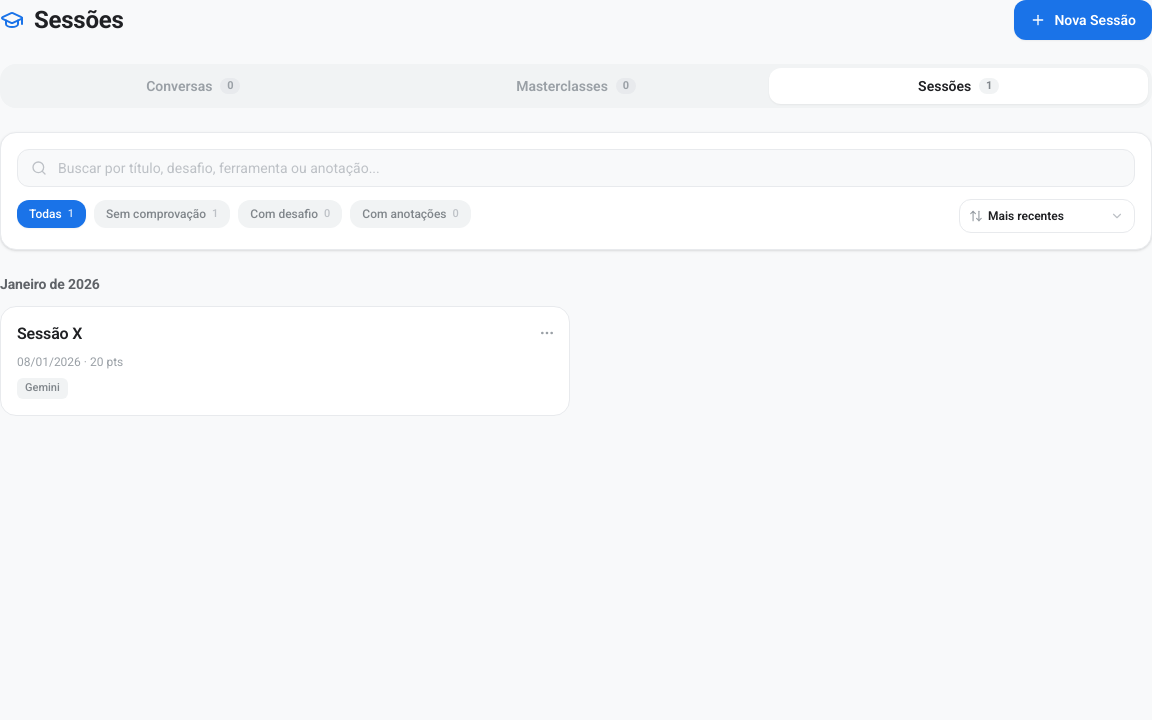
it: SessionsModule › hides a deleted item right away and lets the user undo it
Click the button "Sessão X" at (50, 334), box left=17, top=323, right=82, bottom=345
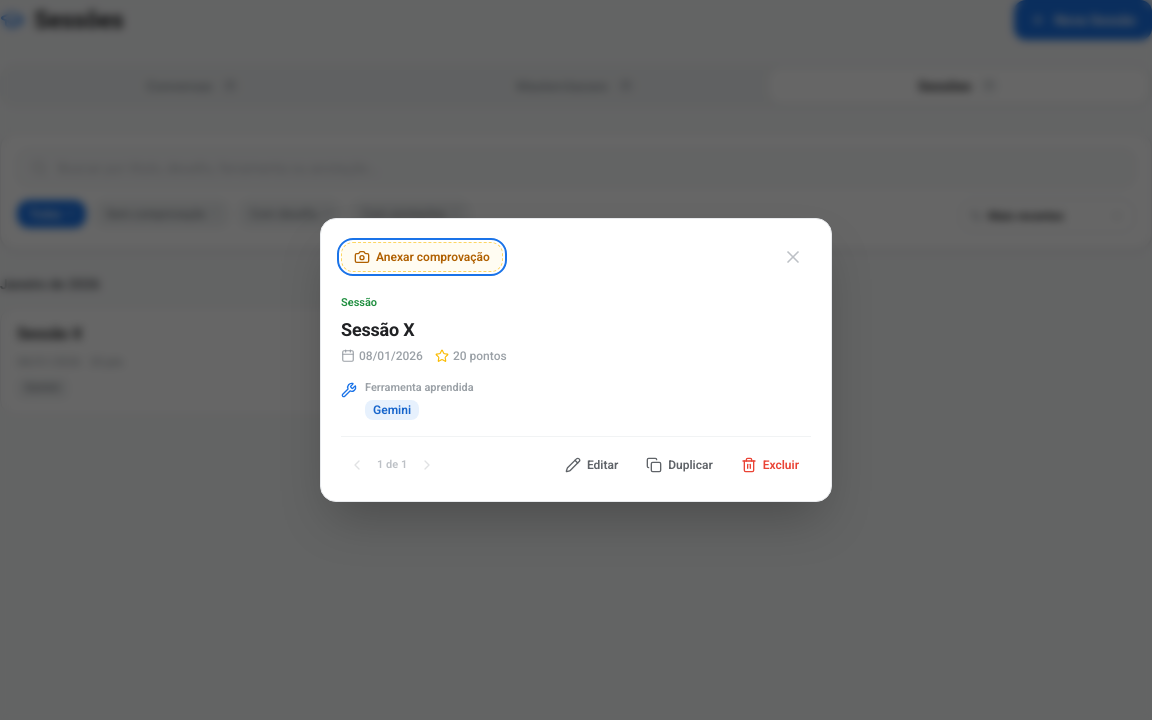
Click the button with aria-label "Excluir sessão" at (770, 465), box left=729, top=449, right=811, bottom=481
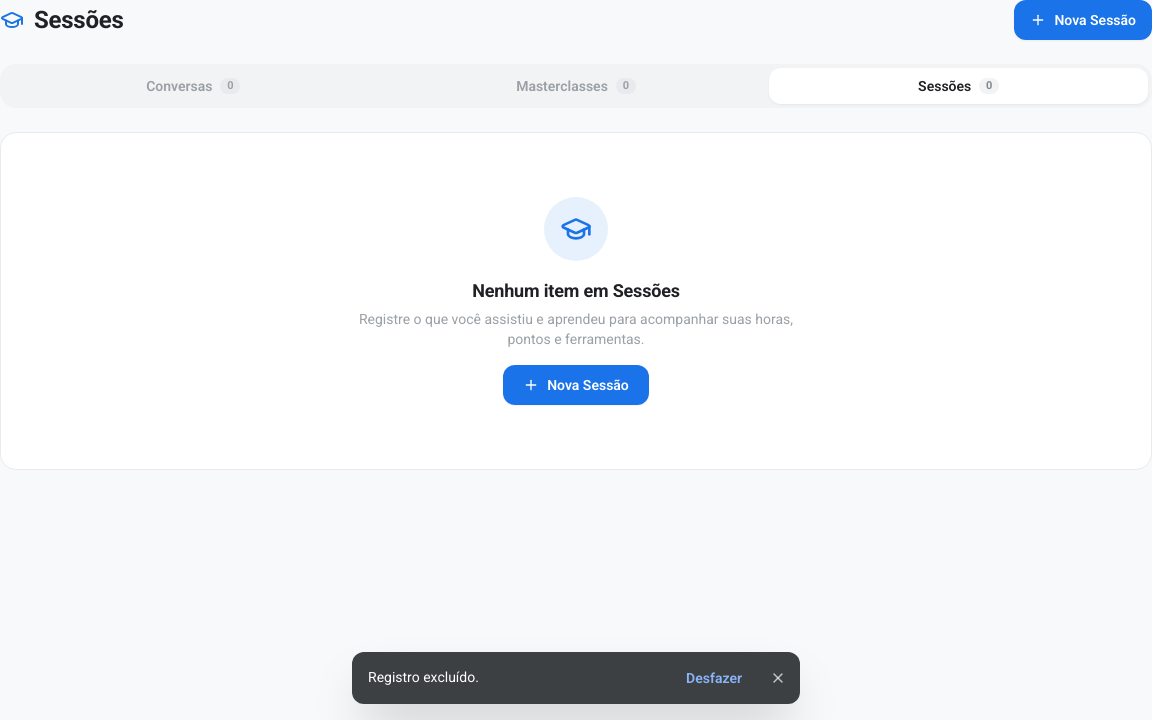
Check: the button "Sessão X" is gone
Click the button "Desfazer" at (714, 678), box left=676, top=662, right=752, bottom=694
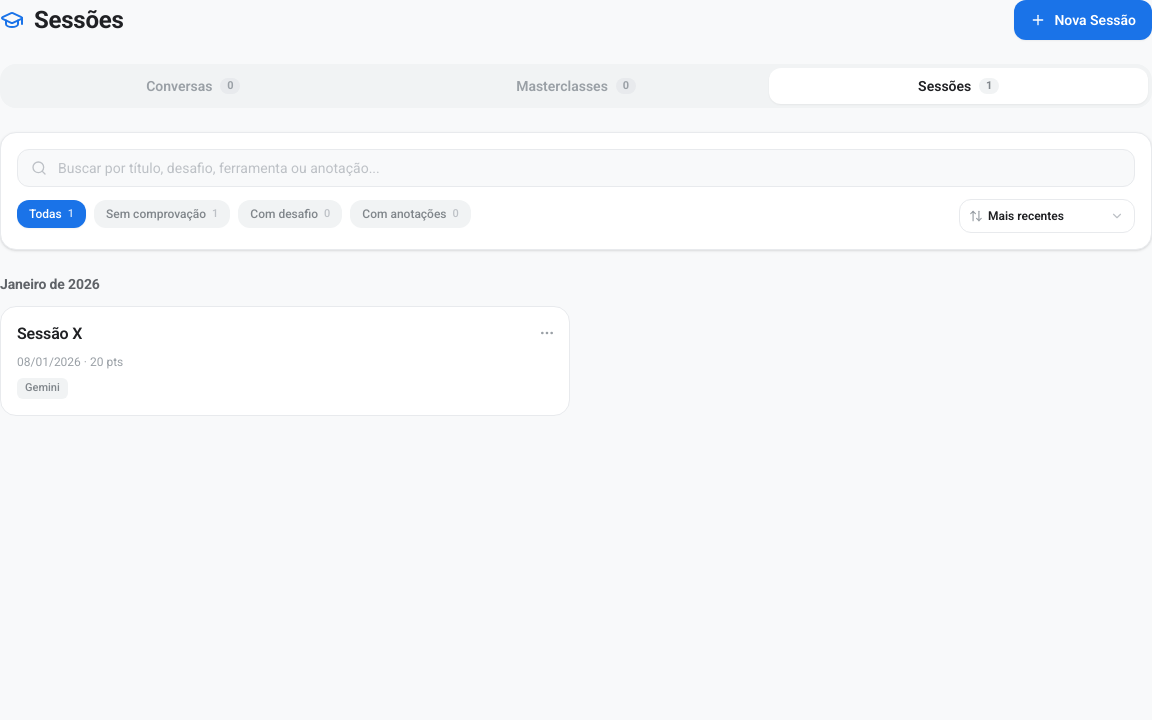
Check: the button "Sessão X" is shown, box left=17, top=323, right=82, bottom=345
